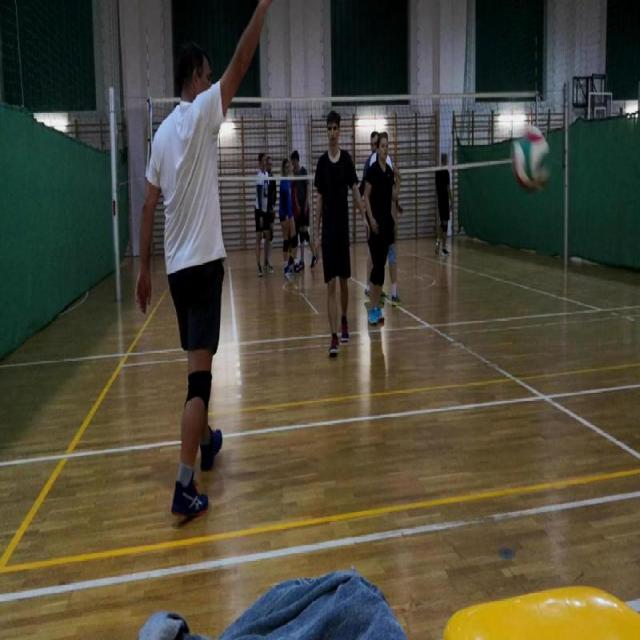volleyball: (512, 124, 550, 194)
